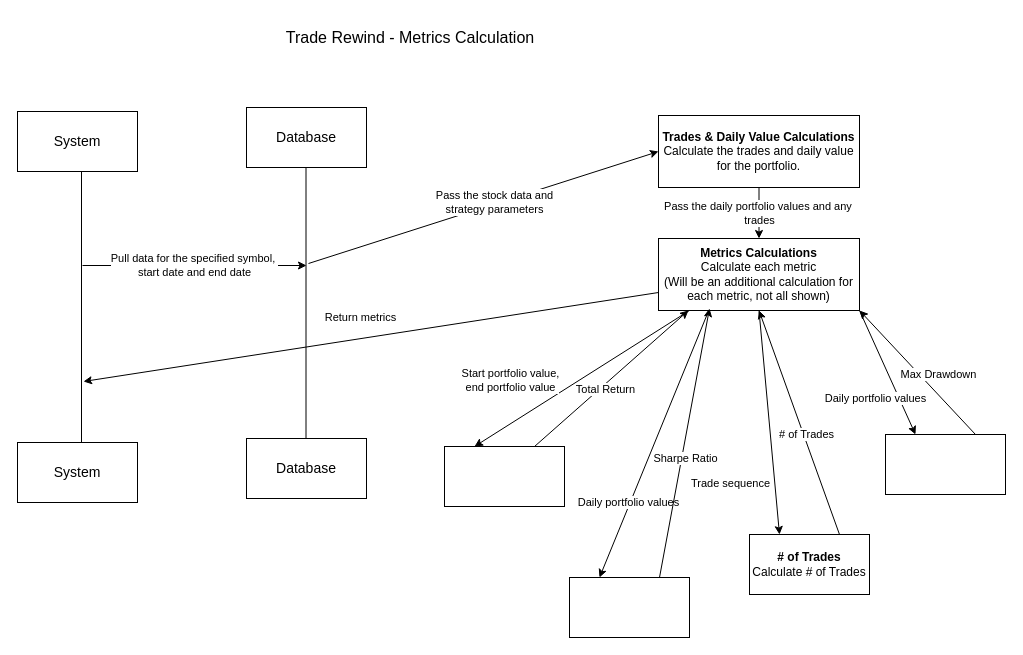
Image size: 1023x655. Some labels were removed from this diagram. The shapes that lost their labels are listed below. From the top down, each one's box as (x1, y1, x2, y2) in pixels, then its label:
(444, 446, 564, 506): Total Return Calculate total return
(884, 434, 1006, 494): Max Drawdown Calculate Max Drawdown
(568, 576, 690, 638): Sharpe Ratio Calculate Sharpe Ratio
